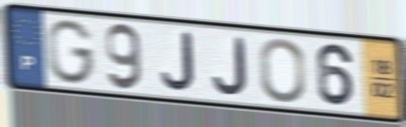6: (314, 41, 357, 109)
9: (103, 21, 144, 92)
G: (45, 17, 98, 87)
J: (158, 30, 198, 94), (211, 35, 251, 98)
O: (257, 36, 308, 105)
